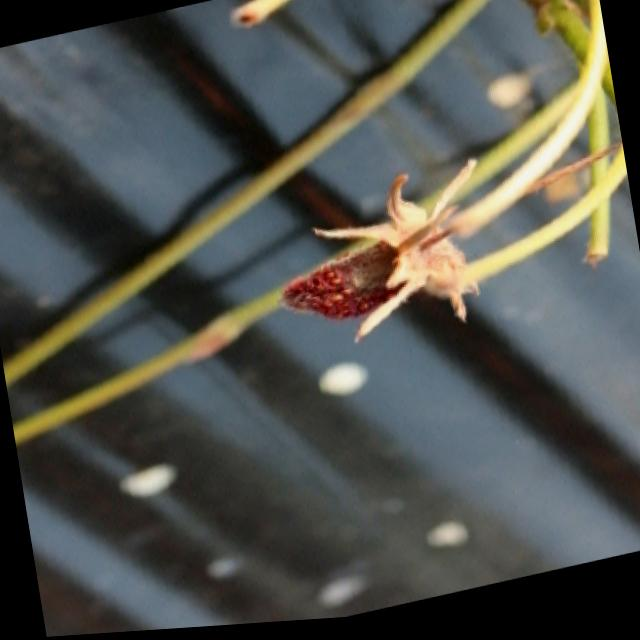Gray Mold: (280, 165, 481, 345)
